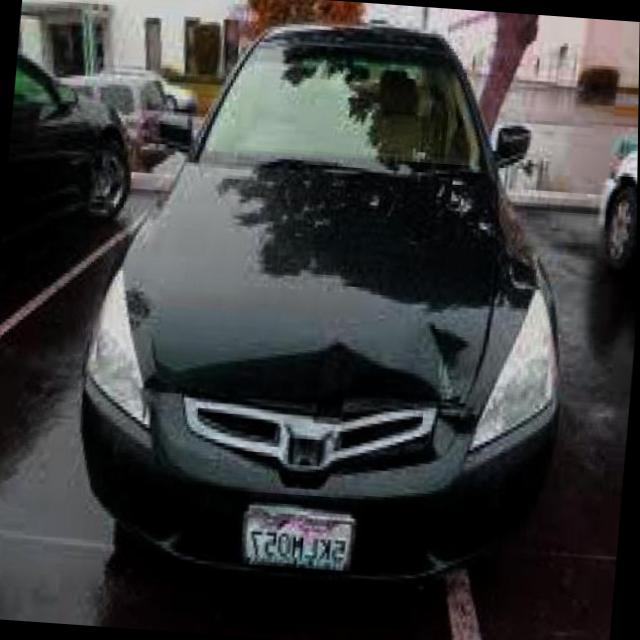Car-Damage: (287, 305, 493, 453)
